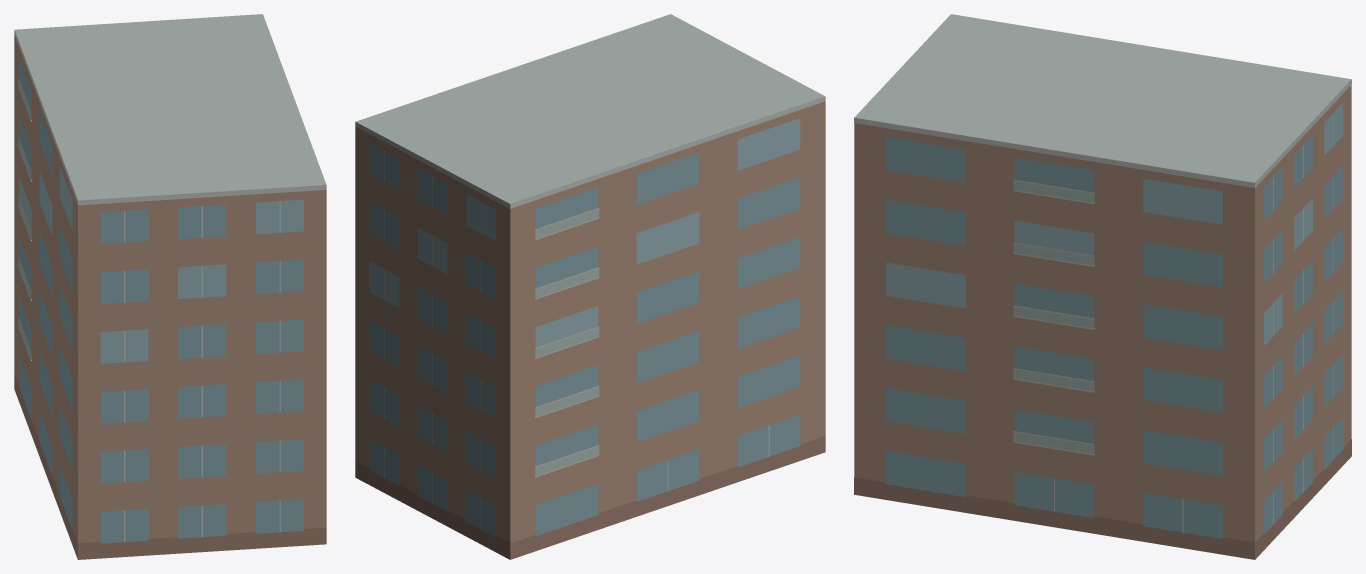
The model's file is survey-upis-32878027.glb.
3 views of the same model, side by side, from view 1: azimuth 30°, elevation 25°; view 2: azimuth 150°, elevation 25°; view 3: azimuth 270°, elevation 25° (orthographic). The views are drawn at different scales.
Visible parts, largest first — view 1: survey-upis-32878027.tmp; view 2: survey-upis-32878027.tmp; view 3: survey-upis-32878027.tmp.
Boxes of the visible parts, box(x1,y1,x2,y2) form: survey-upis-32878027.tmp: box(14, 14, 326, 559); survey-upis-32878027.tmp: box(355, 14, 825, 559); survey-upis-32878027.tmp: box(854, 14, 1351, 559).
Size of the model in its own units: 17.11 by 17.8 by 21.3.
